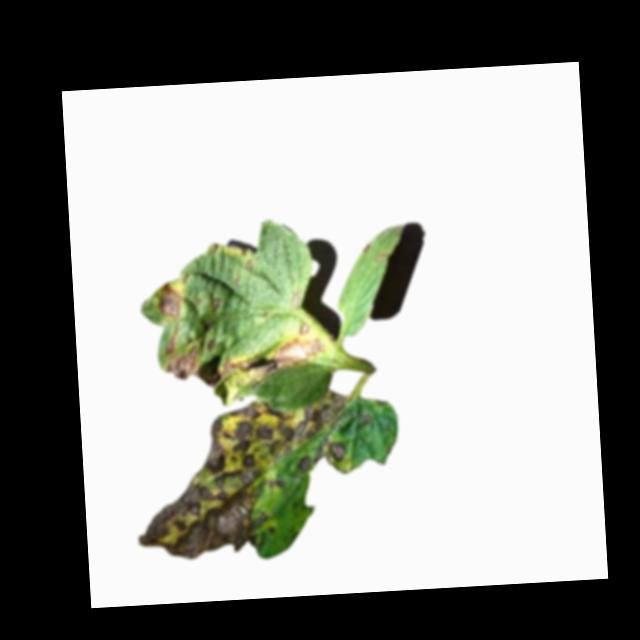Early_blight: (129, 390, 355, 561), (259, 321, 326, 377), (163, 345, 201, 381), (218, 354, 263, 382), (156, 278, 185, 320), (162, 321, 181, 353), (212, 296, 223, 313)
